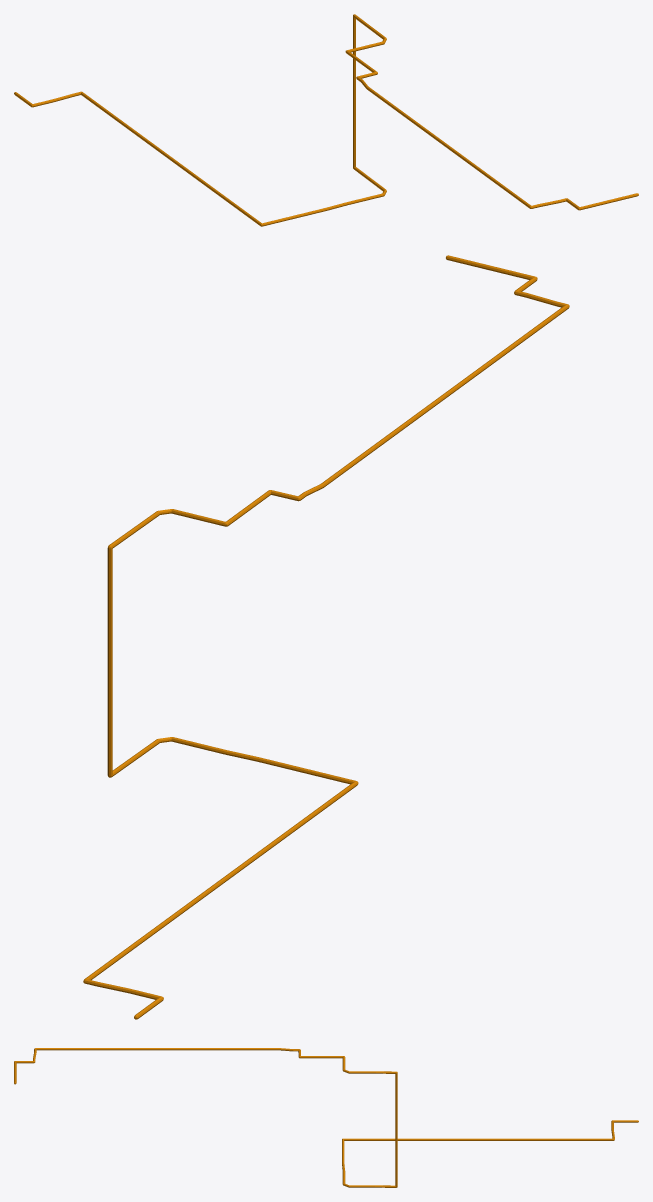
3 views of the same model, one above another, from view 1: azimuth 30°, elevation 25°; view 2: azimuth 150°, elevation 25°; view 3: azimuth 270°, elevation 25° (orthographic). The views are drawn at different scales.
Bounding box in the file's own units: 1446 × 1020 × 4969.
